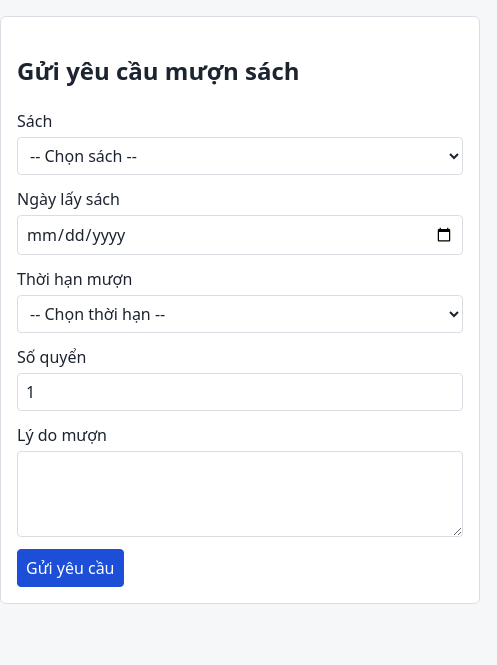
Test case: LoanForm › điền hợp lệ thì gọi action 1 lần với đúng dữ liệu trong FormData
Select "Nhập môn cơ sở dữ liệu (3 bản)" in the dropdown labelled "Sách" at x=240, y=156, box 17,137 -> 463,175
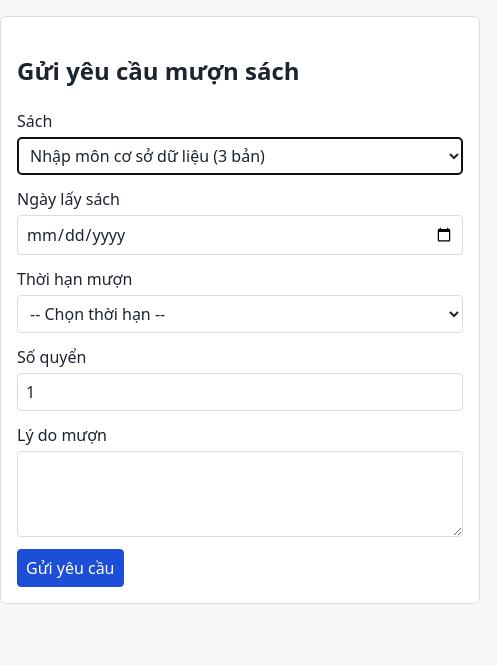
Type "2030-05-20" into the date field labelled "Ngày lấy sách" at x=240, y=235, box 17,215 -> 463,255
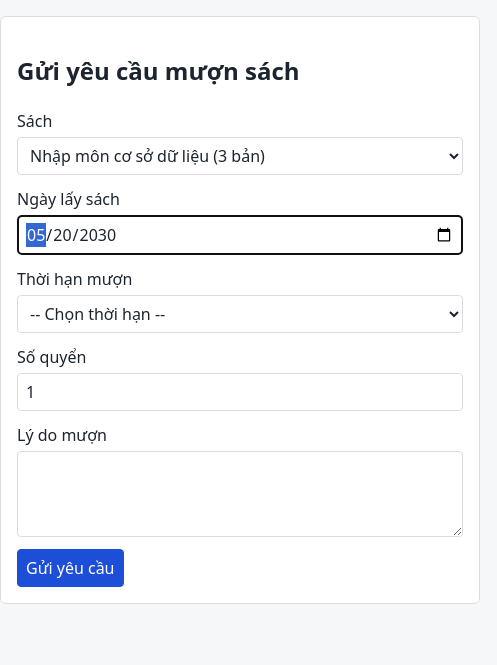
Select "14 ngày" in the dropdown labelled "Thời hạn mượn" at x=240, y=314, box 17,295 -> 463,333
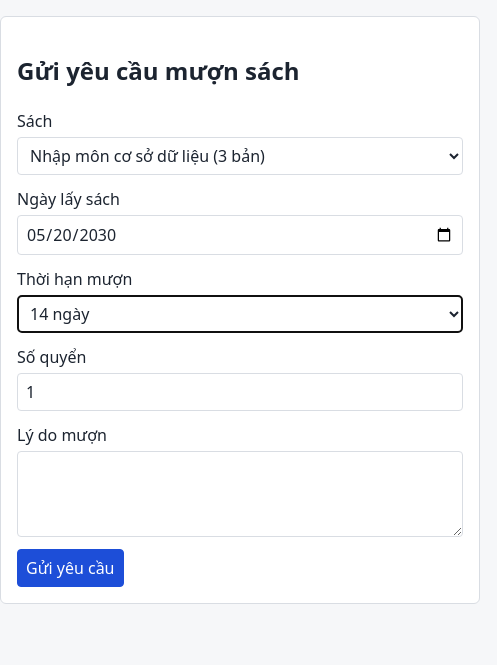
Replace the text in the number field labelled "Số quyển" with "2" at x=240, y=392, box 17,373 -> 463,411
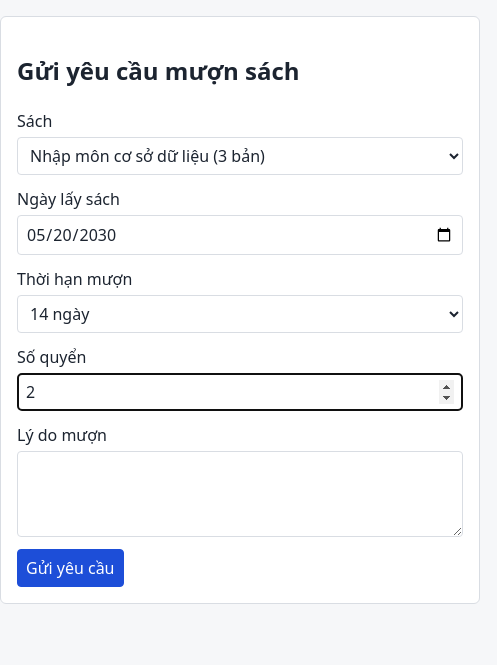
Type "Mượn để làm bài tập lớn môn cơ sở dữ liệu" into the text box labelled "Lý do mượn" at x=240, y=494, box 17,451 -> 463,537
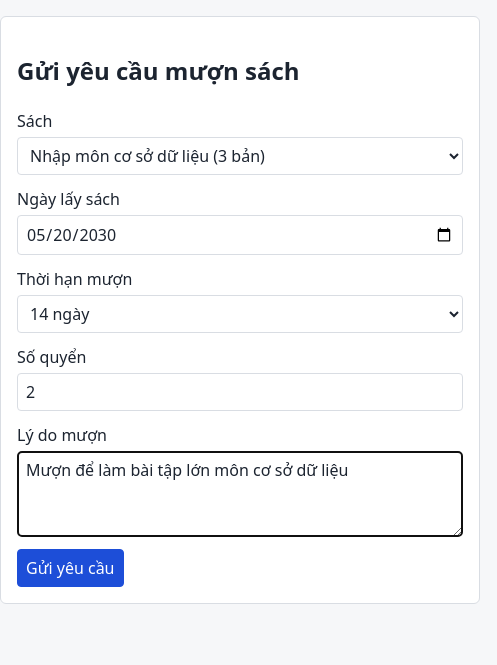
Click the button "Gửi yêu cầu" at x=70, y=568, box 17,549 -> 124,587
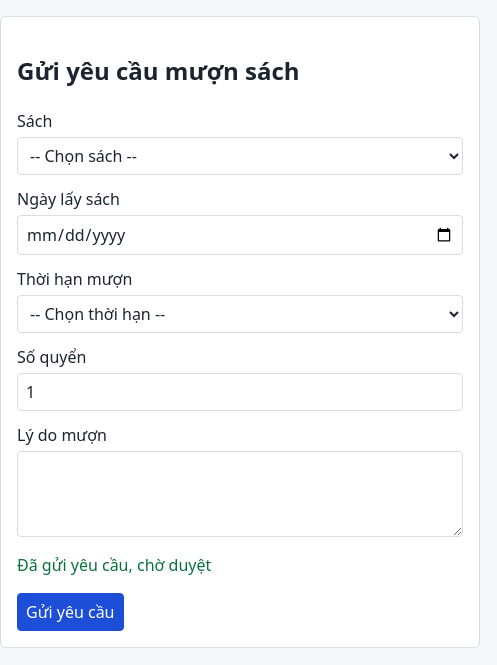
Expected: the text "Đã gửi yêu cầu, chờ duyệt" is shown, 17,554 -> 211,576
